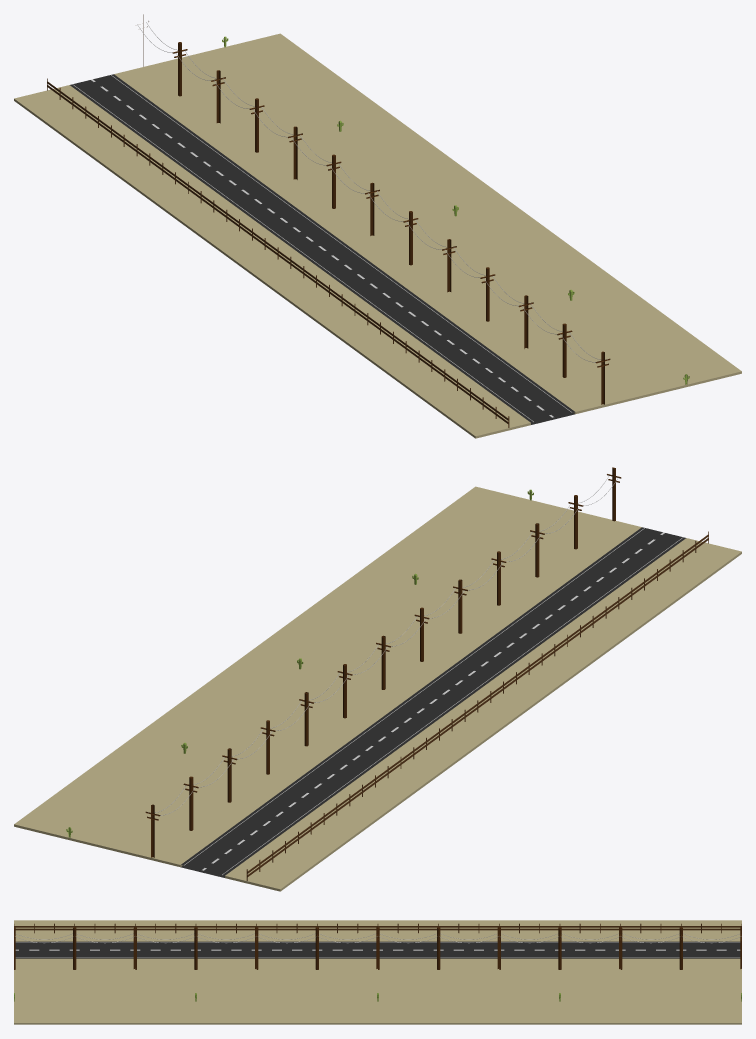
Rendered from Motorcycle Road.fbx.
3 views of the same model, one above another, from view 1: azimuth 30°, elevation 25°; view 2: azimuth 150°, elevation 25°; view 3: azimuth 270°, elevation 25° (orthographic). The views are drawn at different scales.
Parts seen in each view (by area): view 1: Cactus Segment, Cactus Segment.001, Cactus Segment.003, Cactus Segment.002, Powerline Segment, Powerline Segment.004, Powerline Segment.003, Powerline Segment.005, Powerline Segment.001, Powerline Segment.002, Fence Segment, Fence Segment.002 (+10 smaller); view 2: Cactus Segment.003, Cactus Segment.002, Cactus Segment, Cactus Segment.001, Powerline Segment.005, Powerline Segment.004, Powerline Segment.002, Powerline Segment.003, Powerline Segment.001, Powerline Segment, Fence Segment.005, Fence Segment.003 (+10 smaller); view 3: Cactus Segment.003, Cactus Segment.002, Cactus Segment.001, Cactus Segment, Powerline Segment.005, Powerline Segment.003, Powerline Segment.002, Powerline Segment, Powerline Segment.004, Powerline Segment.001, Fence Segment.004, Fence Segment.001 (+10 smaller).
Boxes of the visible parts, x1=… form: Cactus Segment: x1=516, y1=287, x2=741, y2=400; Cactus Segment.001: x1=400, y1=202, x2=626, y2=313; Cactus Segment.003: x1=170, y1=33, x2=395, y2=144; Cactus Segment.002: x1=285, y1=118, x2=510, y2=229; Powerline Segment: x1=499, y1=296, x2=630, y2=414; Powerline Segment.004: x1=191, y1=71, x2=322, y2=186; Powerline Segment.003: x1=268, y1=128, x2=399, y2=242; Powerline Segment.005: x1=114, y1=14, x2=245, y2=130; Powerline Segment.001: x1=422, y1=240, x2=553, y2=355; Powerline Segment.002: x1=345, y1=190, x2=476, y2=299; Fence Segment: x1=398, y1=360, x2=530, y2=438; Fence Segment.002: x1=244, y1=247, x2=376, y2=325; Cactus Segment.003: x1=14, y1=740, x2=239, y2=853; Cactus Segment.002: x1=129, y1=655, x2=355, y2=766; Cactus Segment: x1=360, y1=486, x2=585, y2=597; Cactus Segment.001: x1=245, y1=571, x2=470, y2=682; Powerline Segment.005: x1=125, y1=749, x2=256, y2=867; Powerline Segment.004: x1=202, y1=692, x2=333, y2=808; Powerline Segment.002: x1=356, y1=580, x2=487, y2=695; Powerline Segment.003: x1=279, y1=636, x2=410, y2=752; Powerline Segment.001: x1=433, y1=523, x2=564, y2=639; Powerline Segment: x1=510, y1=467, x2=641, y2=583; Fence Segment.005: x1=225, y1=813, x2=357, y2=891; Fence Segment.003: x1=379, y1=700, x2=511, y2=778; Cactus Segment.003: x1=560, y1=980, x2=741, y2=1024; Cactus Segment.002: x1=378, y1=980, x2=559, y2=1024; Cactus Segment.001: x1=196, y1=980, x2=377, y2=1024; Cactus Segment: x1=14, y1=980, x2=195, y2=1024; Powerline Segment.005: x1=620, y1=927, x2=741, y2=979; Powerline Segment.003: x1=378, y1=927, x2=499, y2=979; Powerline Segment.002: x1=256, y1=927, x2=377, y2=979; Powerline Segment: x1=14, y1=927, x2=135, y2=979; Powerline Segment.004: x1=499, y1=927, x2=620, y2=979; Powerline Segment.001: x1=135, y1=927, x2=256, y2=979; Fence Segment.004: x1=499, y1=920, x2=620, y2=941; Fence Segment.001: x1=135, y1=920, x2=256, y2=941.
Bounding box in the file's own units: 2400 × 473 × 7201.
